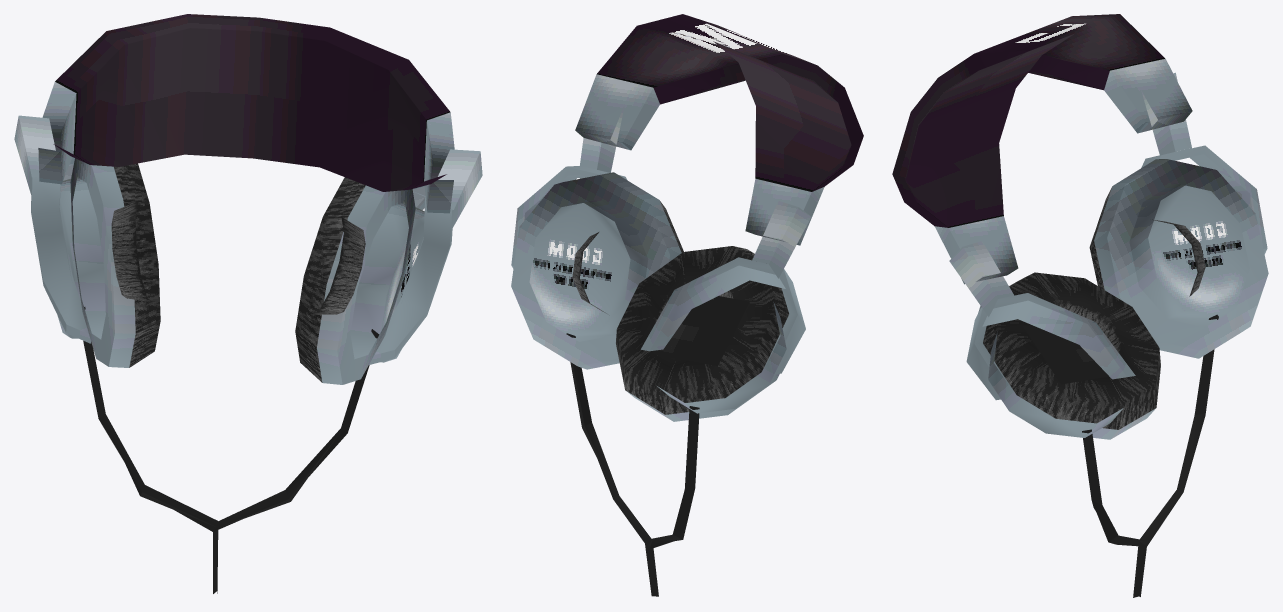
File: ps2_save-icons_getondamic.glb
3 renders of one model, left to right at view 1: azimuth 30°, elevation 25°; view 2: azimuth 150°, elevation 25°; view 3: azimuth 270°, elevation 25°, orthographic. The views are drawn at different scales.
Parts seen in each view (by area): view 1: static.ico; view 2: static.ico; view 3: static.ico.
Part boxes in pixels (x1,y1,x2,y2): static.ico: [14, 14, 482, 593]; static.ico: [511, 14, 863, 596]; static.ico: [892, 14, 1268, 597].
Bounding box in the file's own units: 2.96 × 4.66 × 2.87.
Materials: 1 (1 with a texture image).
